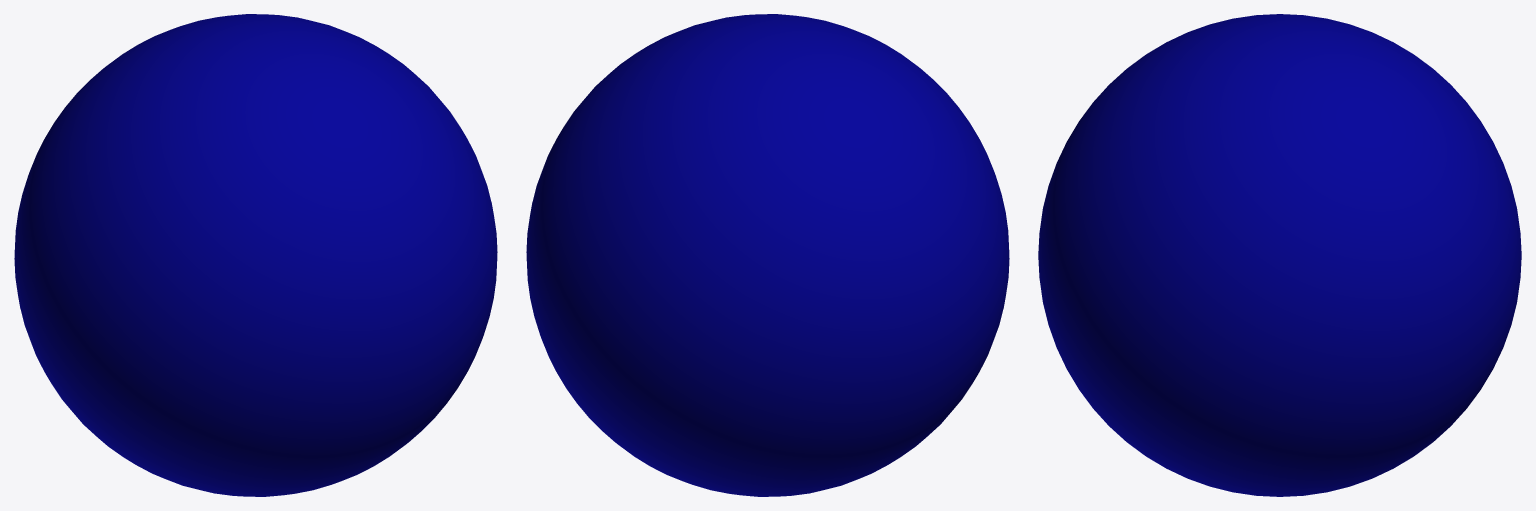
3 views of the same model, side by side, from view 1: azimuth 30°, elevation 25°; view 2: azimuth 150°, elevation 25°; view 3: azimuth 270°, elevation 25° (orthographic).
Visible parts, largest first — view 1: Sphere001; view 2: Sphere001; view 3: Sphere001.
Boxes of the visible parts, x1=… form: Sphere001: x1=14, y1=14, x2=497, y2=496; Sphere001: x1=526, y1=14, x2=1009, y2=496; Sphere001: x1=1038, y1=14, x2=1521, y2=496.
Bounding box in the file's own units: 282 × 282 × 282.
